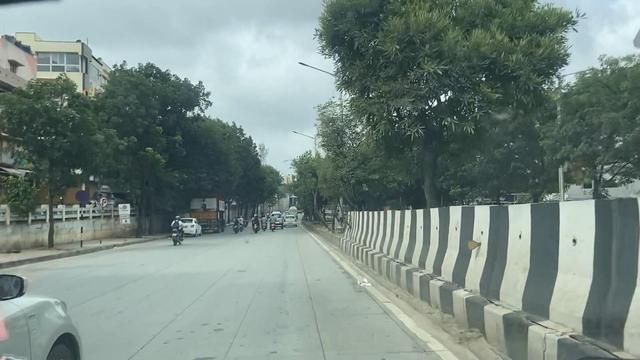RoadDamages: (169, 310, 442, 360)
